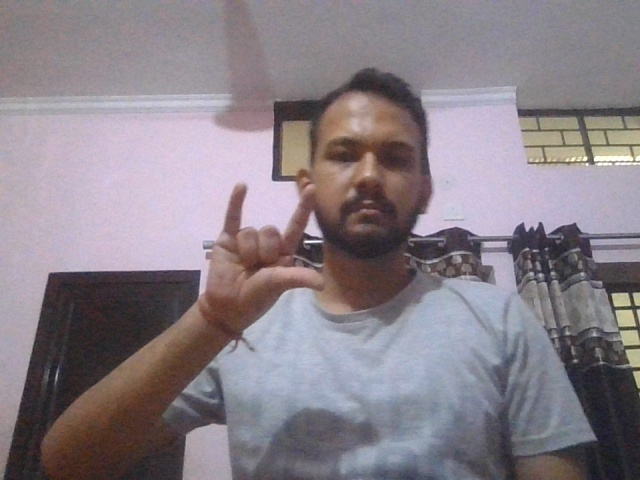iloveyou: (205, 182, 326, 321)
